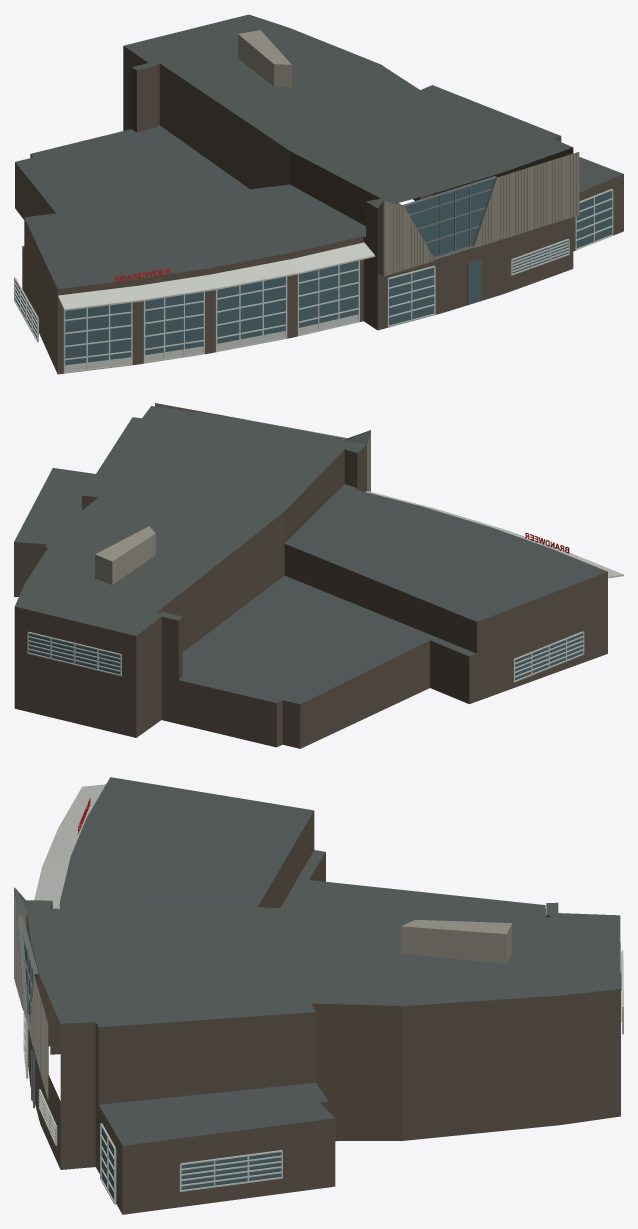
File: fire-station-weesp.glb
3 renders of one model, top to bottom at view 1: azimuth 30°, elevation 25°; view 2: azimuth 150°, elevation 25°; view 3: azimuth 270°, elevation 25°, orthographic. The views are drawn at different scales.
Visible parts, largest first — view 1: fire-station-weesp; view 2: fire-station-weesp; view 3: fire-station-weesp.
Boxes of the visible parts, x1,y1,x2,y2 form: fire-station-weesp: [14, 14, 623, 374]; fire-station-weesp: [14, 403, 623, 748]; fire-station-weesp: [14, 777, 623, 1214].
Bounding box in the file's own units: 43.63 × 9.73 × 33.27.
